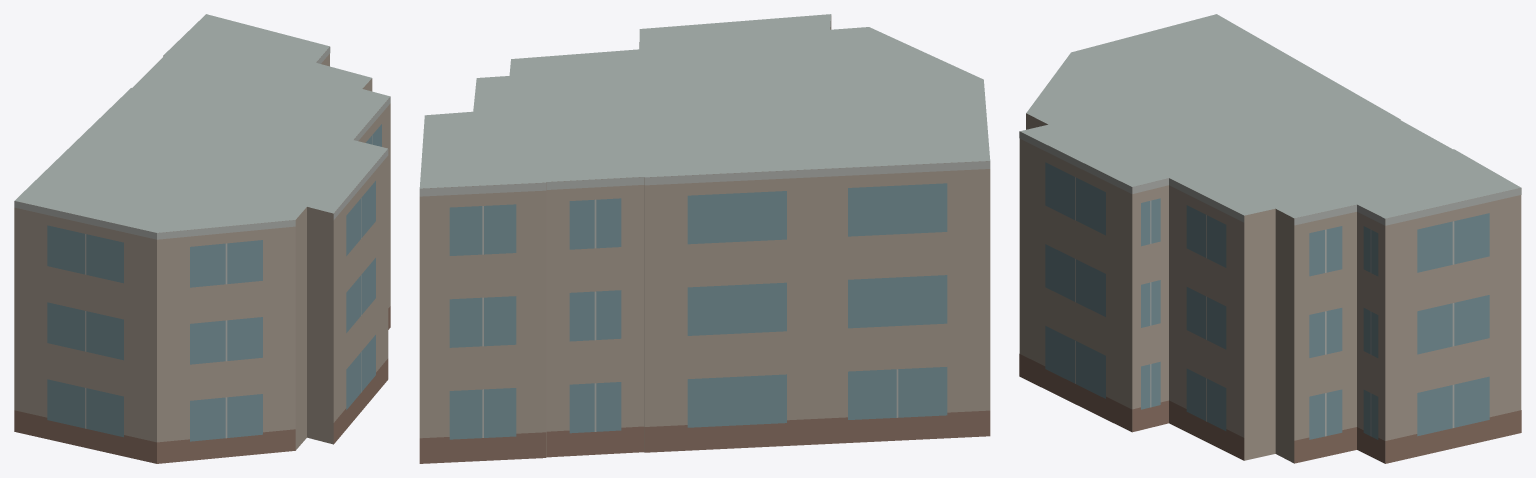
File: survey-upis-32667785.glb
The picture shows the model from 3 angles, left to right: view 1: azimuth 30°, elevation 25°; view 2: azimuth 150°, elevation 25°; view 3: azimuth 270°, elevation 25°; orthographic projection. The views are drawn at different scales.
Parts seen in each view (by area): view 1: survey-upis-32667785.tmp; view 2: survey-upis-32667785.tmp; view 3: survey-upis-32667785.tmp.
Boxes of the visible parts, left/top/right/bottom form: survey-upis-32667785.tmp: left=14, top=14, right=390, bottom=463; survey-upis-32667785.tmp: left=419, top=14, right=990, bottom=463; survey-upis-32667785.tmp: left=1019, top=14, right=1521, bottom=463.
Bounding box in the file's own units: 15 × 8.37 × 15.54.
